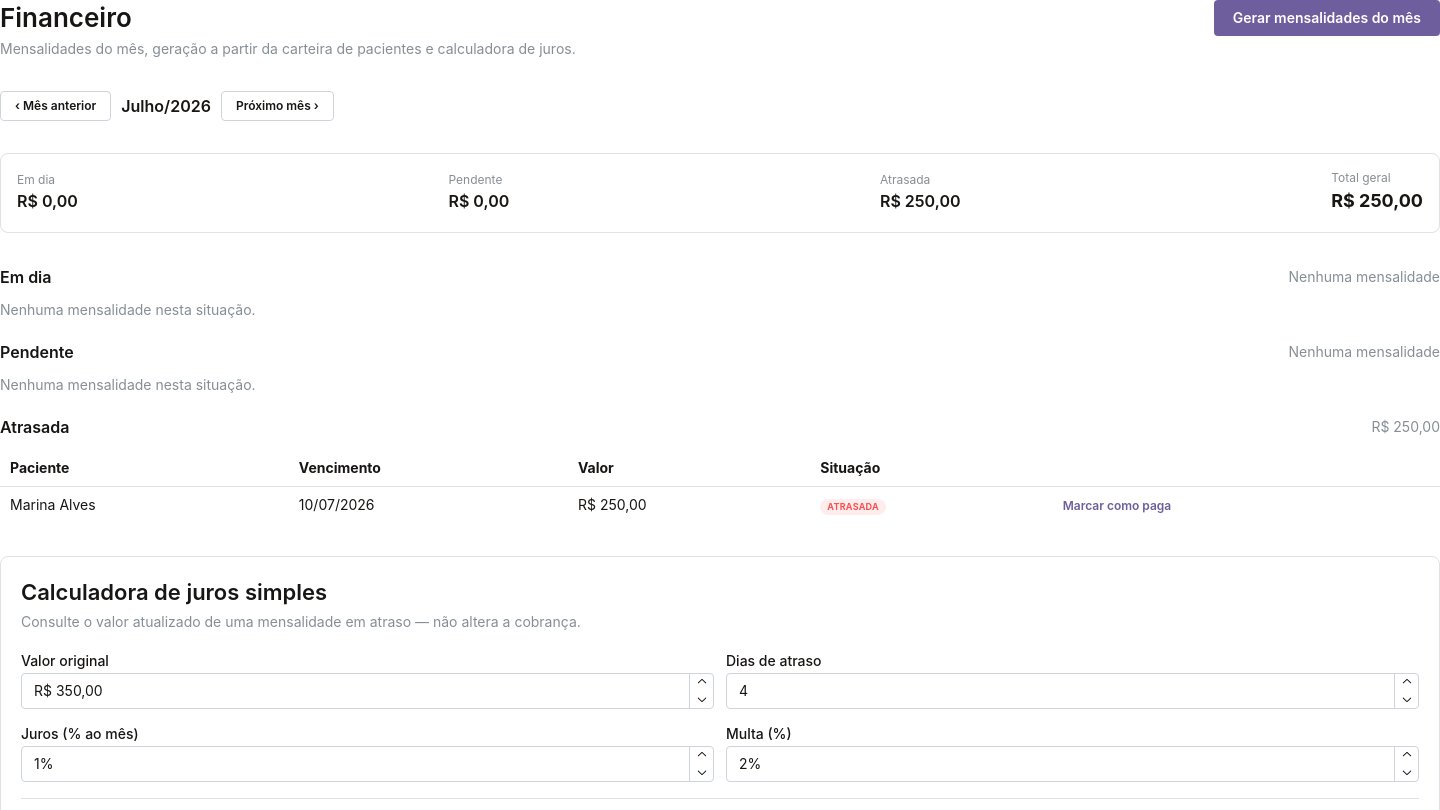
Test case: FinancePage — marcar como paga e desfazer › desfazer volta a mensalidade para o status anterior
Click the button with test id "finance-mark-paid-c1": (1117, 506) [1055,495,1179,517]
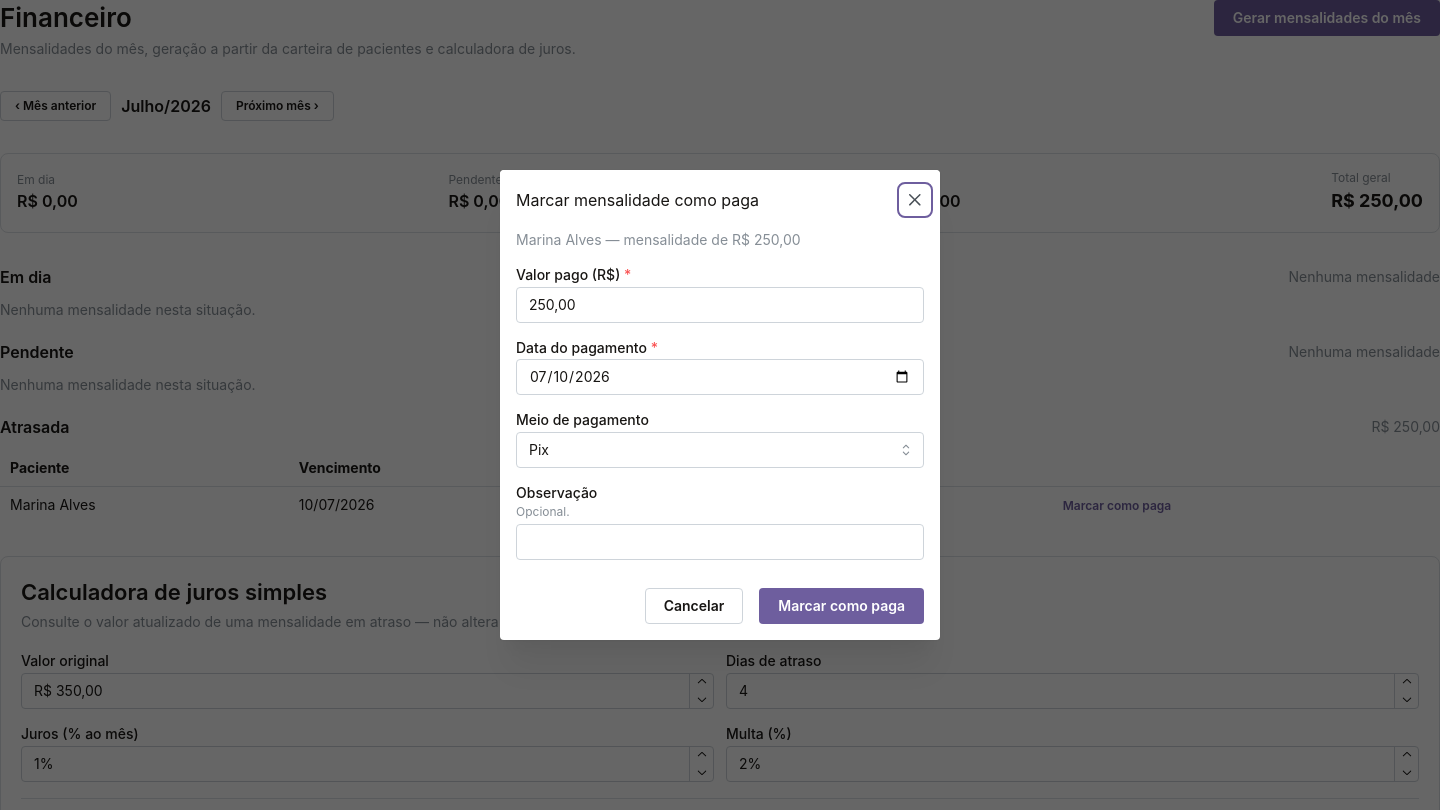
Click the button with test id "confirm-register-payment": (842, 606) [759,588,924,624]
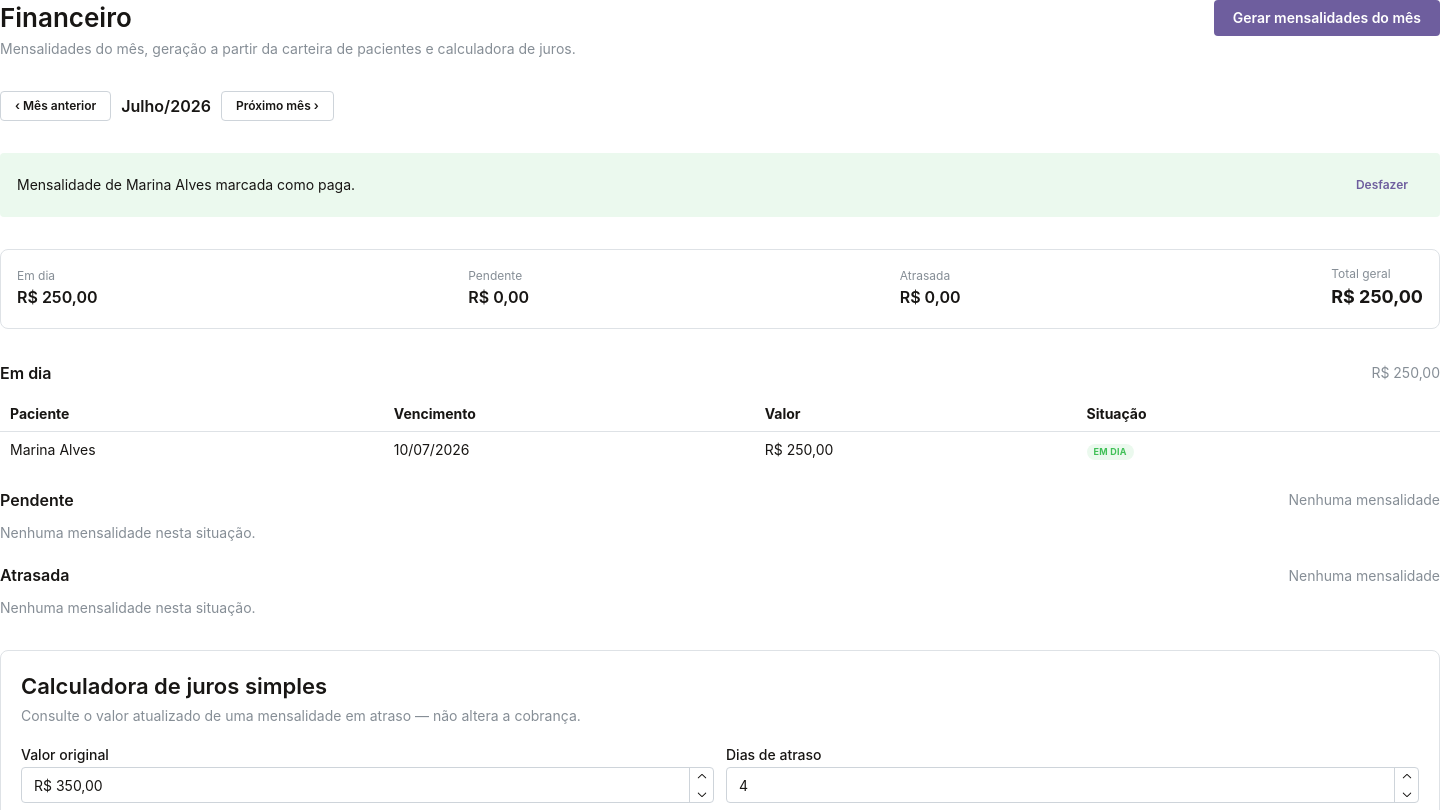
Expected: the message "Mensalidade de Marina Alves marcada como paga. Desfazer" is shown, [0,153,1439,217]
Click the button with test id "finance-undo-payment": (1382, 185) [1341,170,1423,200]
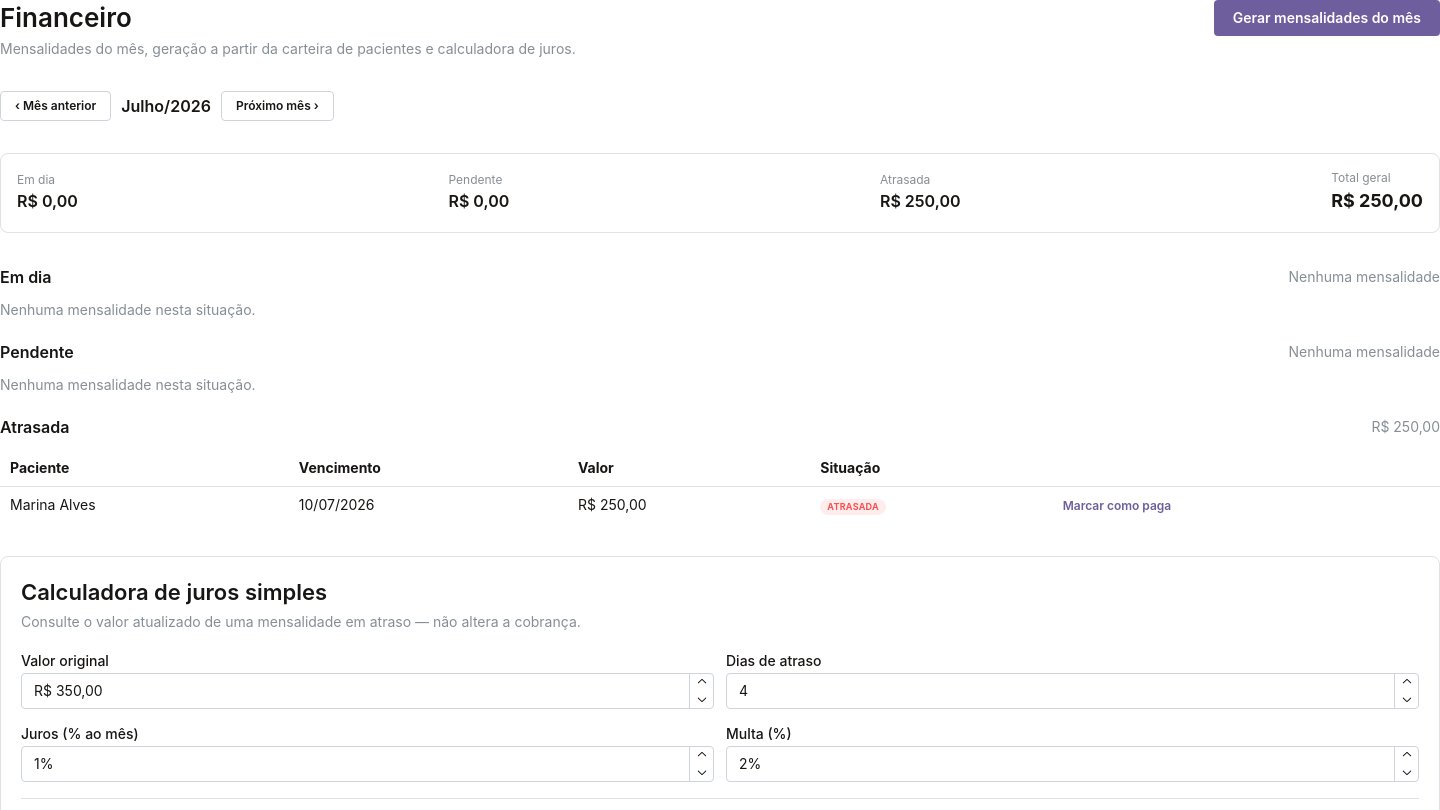
Expected: the text "Marina Alves" is shown, [0,486,289,524]
Expected: the message with test id "finance-payment-undo-banner" is gone
Expected: the 1st text "R$ 250,00" is shown, [880,189,960,214]
